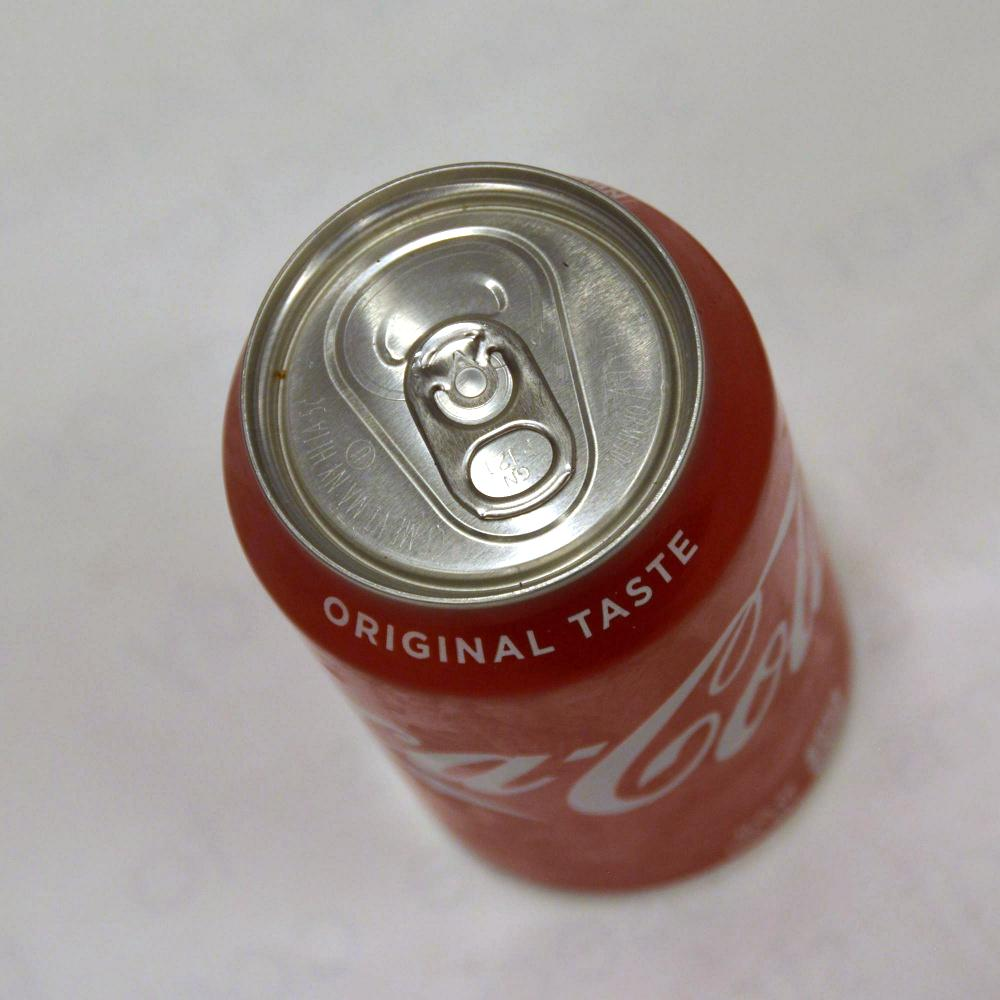Metal: (156, 125, 893, 917)
